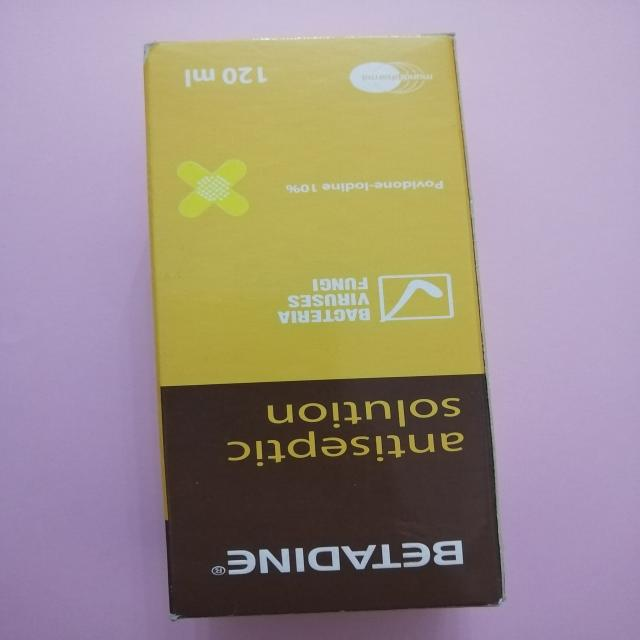medicine_packaging: (123, 29, 528, 634)
